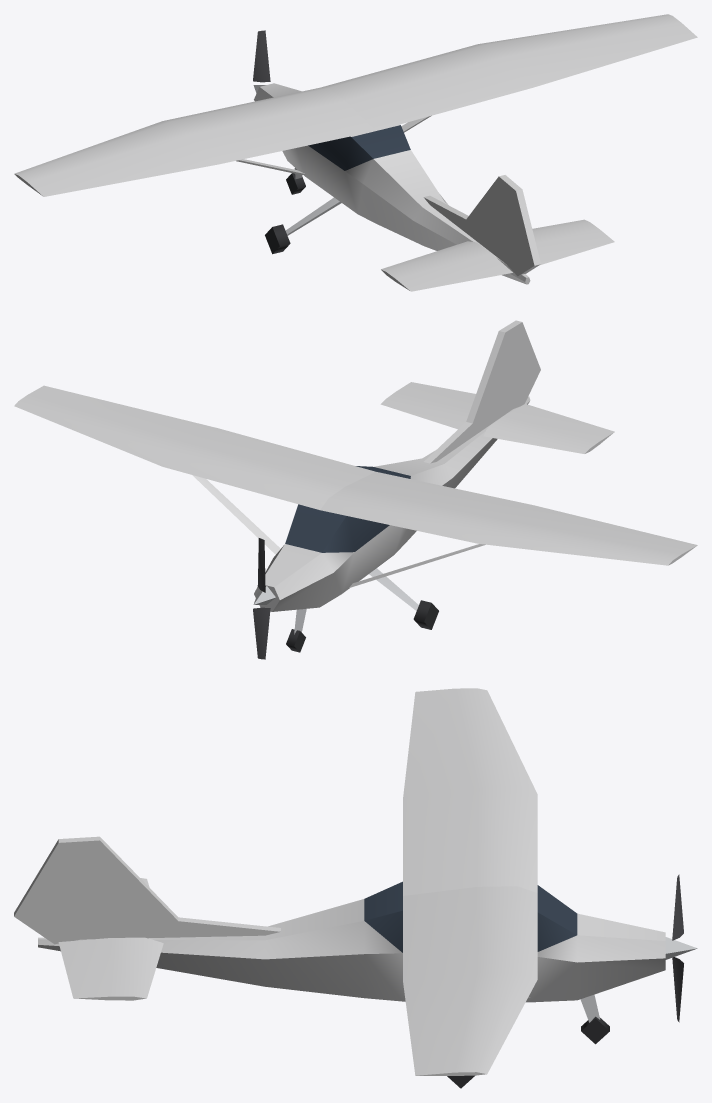
The model's file is Cessna_172_LOD1.glb.
The picture shows the model from 3 angles, top to bottom: view 1: azimuth 30°, elevation 25°; view 2: azimuth 150°, elevation 25°; view 3: azimuth 270°, elevation 25°; orthographic projection. The views are drawn at different scales.
Visible parts, largest first — view 1: Wing_Right, Wing_Left, Fuselage, VerticalTail, HorizontalTail_Left, HorizontalTail_Right, Propeller, Wheel_Left, LandingGear_Left; view 2: Wing_Right, Wing_Left, Fuselage, VerticalTail, HorizontalTail_Left, HorizontalTail_Right, Propeller, Strut_Right, Strut_Left; view 3: Fuselage, Wing_Left, Wing_Right, VerticalTail, HorizontalTail_Right, Propeller.
Part boxes in pixels (x1=…): Wing_Right: x1=321, y1=14, x2=697, y2=130; Wing_Left: x1=14, y1=87, x2=375, y2=196; Fuselage: x1=254, y1=83, x2=530, y2=284; VerticalTail: x1=423, y1=175, x2=540, y2=276; HorizontalTail_Left: x1=381, y1=241, x2=512, y2=291; HorizontalTail_Right: x1=532, y1=219, x2=614, y2=265; Propeller: x1=253, y1=30, x2=270, y2=82; Wheel_Left: x1=265, y1=224, x2=290, y2=254; LandingGear_Left: x1=285, y1=197, x2=341, y2=235; Wing_Right: x1=14, y1=385, x2=375, y2=509; Wing_Left: x1=320, y1=472, x2=697, y2=565; Fuselage: x1=254, y1=396, x2=530, y2=611; VerticalTail: x1=424, y1=320, x2=540, y2=463; HorizontalTail_Left: x1=483, y1=404, x2=614, y2=453; HorizontalTail_Right: x1=380, y1=382, x2=475, y2=429; Propeller: x1=253, y1=538, x2=270, y2=659; Strut_Right: x1=192, y1=475, x2=280, y2=554; Strut_Left: x1=349, y1=544, x2=485, y2=587; Fuselage: x1=38, y1=881, x2=665, y2=1002; Wing_Left: x1=403, y1=688, x2=537, y2=895; Wing_Right: x1=403, y1=886, x2=537, y2=1075; VerticalTail: x1=14, y1=836, x2=280, y2=944; HorizontalTail_Right: x1=58, y1=937, x2=163, y2=1000; Propeller: x1=672, y1=874, x2=683, y2=1022.
Bounding box in the file's own units: 11 × 2.72 × 8.28.
